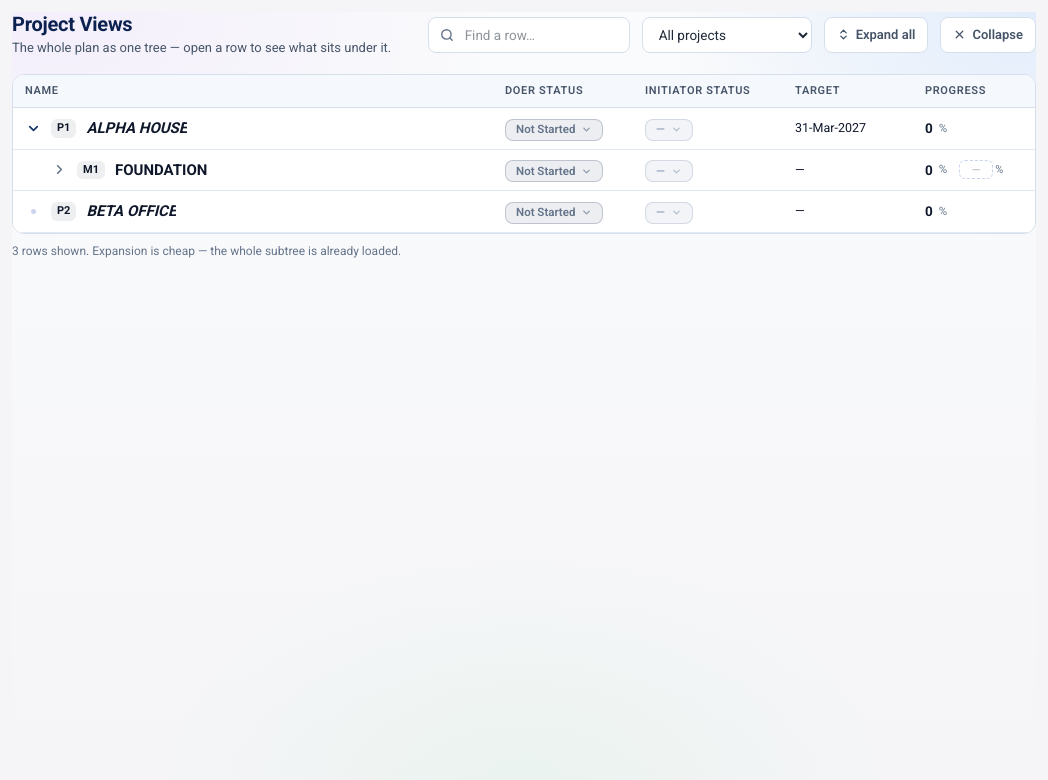
Scenario: Project Views — content and controls are all still there › Expand all and Collapse still work
Click the button "Expand all": (876, 35) [824,17,928,53]
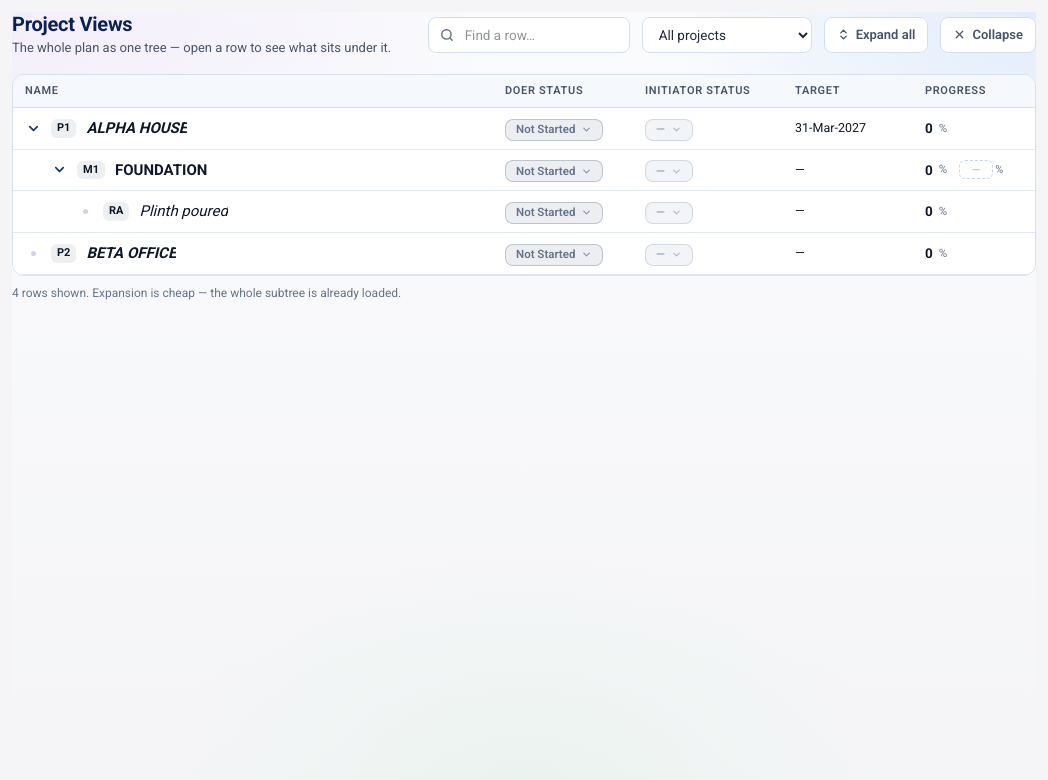
Expected: the text "Foundation" is shown, [115,159,207,181]
Expected: the text "Plinth poured" is shown, [139,200,228,223]
Click the button "Collapse": (988, 35) [940,17,1036,53]
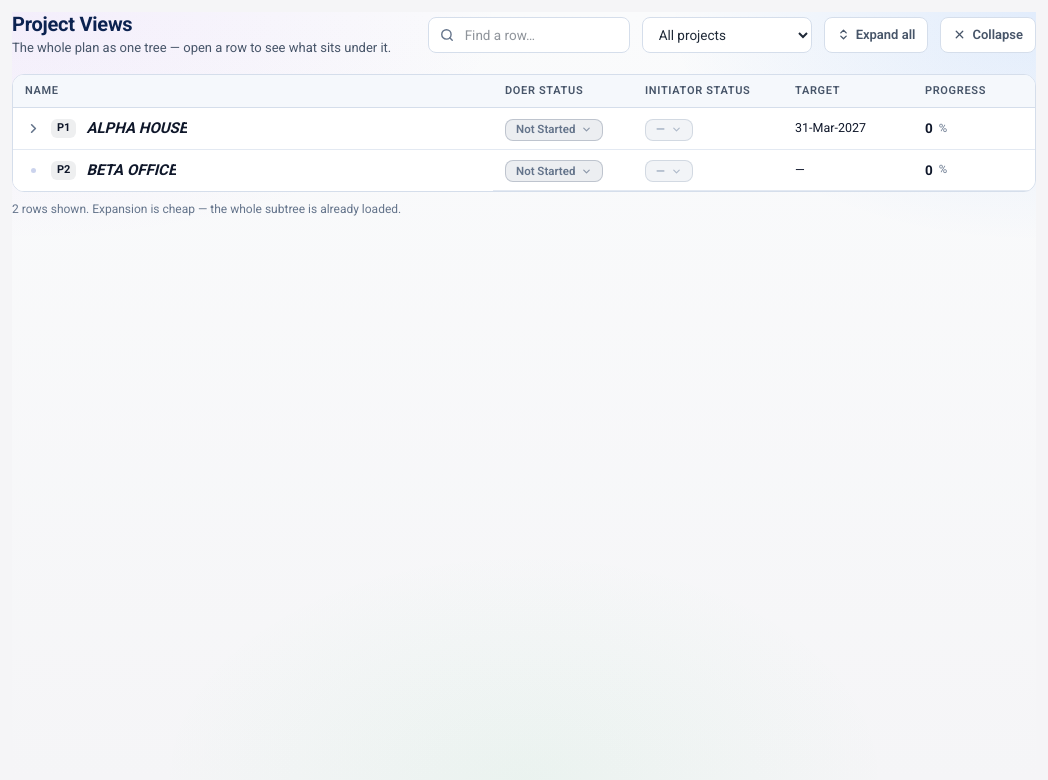
Expected: the text "Alpha House" is shown, [86,117,187,140]
Expected: the text "Foundation" is gone
